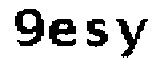9: (12, 2, 46, 51)
e: (48, 17, 78, 50)
s: (82, 16, 109, 50)
y: (112, 11, 145, 60)
